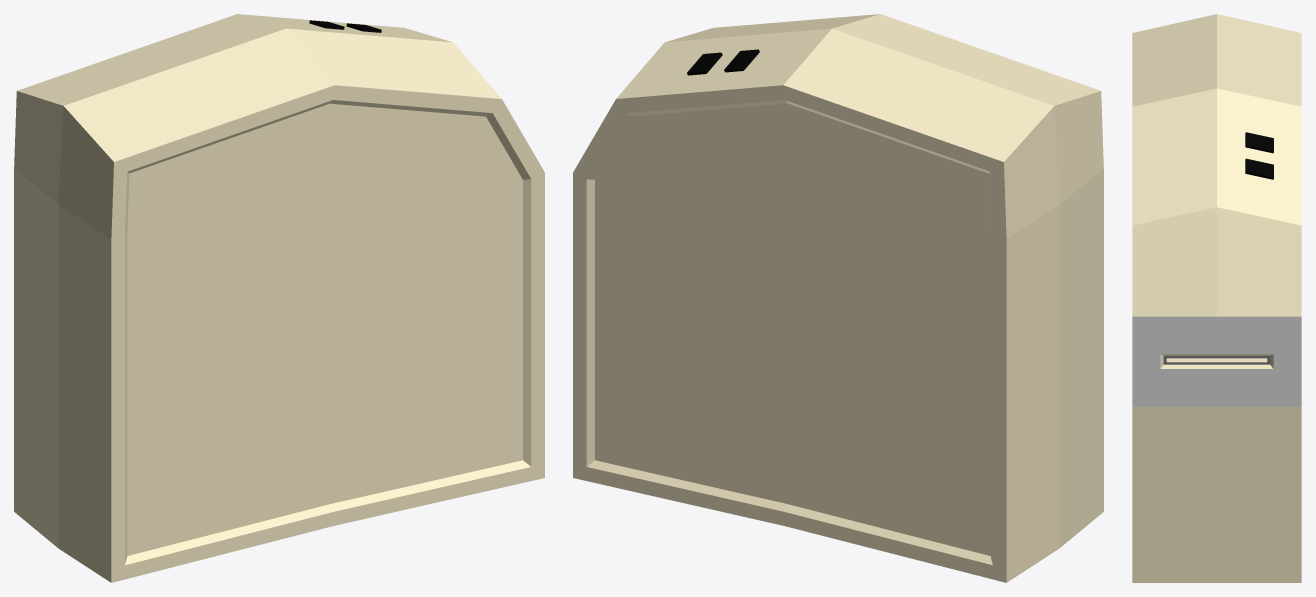
3 views of the same model, side by side, from view 1: azimuth 30°, elevation 25°; view 2: azimuth 150°, elevation 25°; view 3: azimuth 270°, elevation 25° (orthographic). The views are drawn at different scales.
Visible parts, largest first — view 1: Cube.036; view 2: Cube.036; view 3: Cube.036.
Part boxes in pixels (x1,y1,x2,y2): Cube.036: [14, 14, 544, 582]; Cube.036: [573, 14, 1103, 582]; Cube.036: [1132, 14, 1301, 582].
Size of the model in its own units: 128 by 130 by 49.28.
